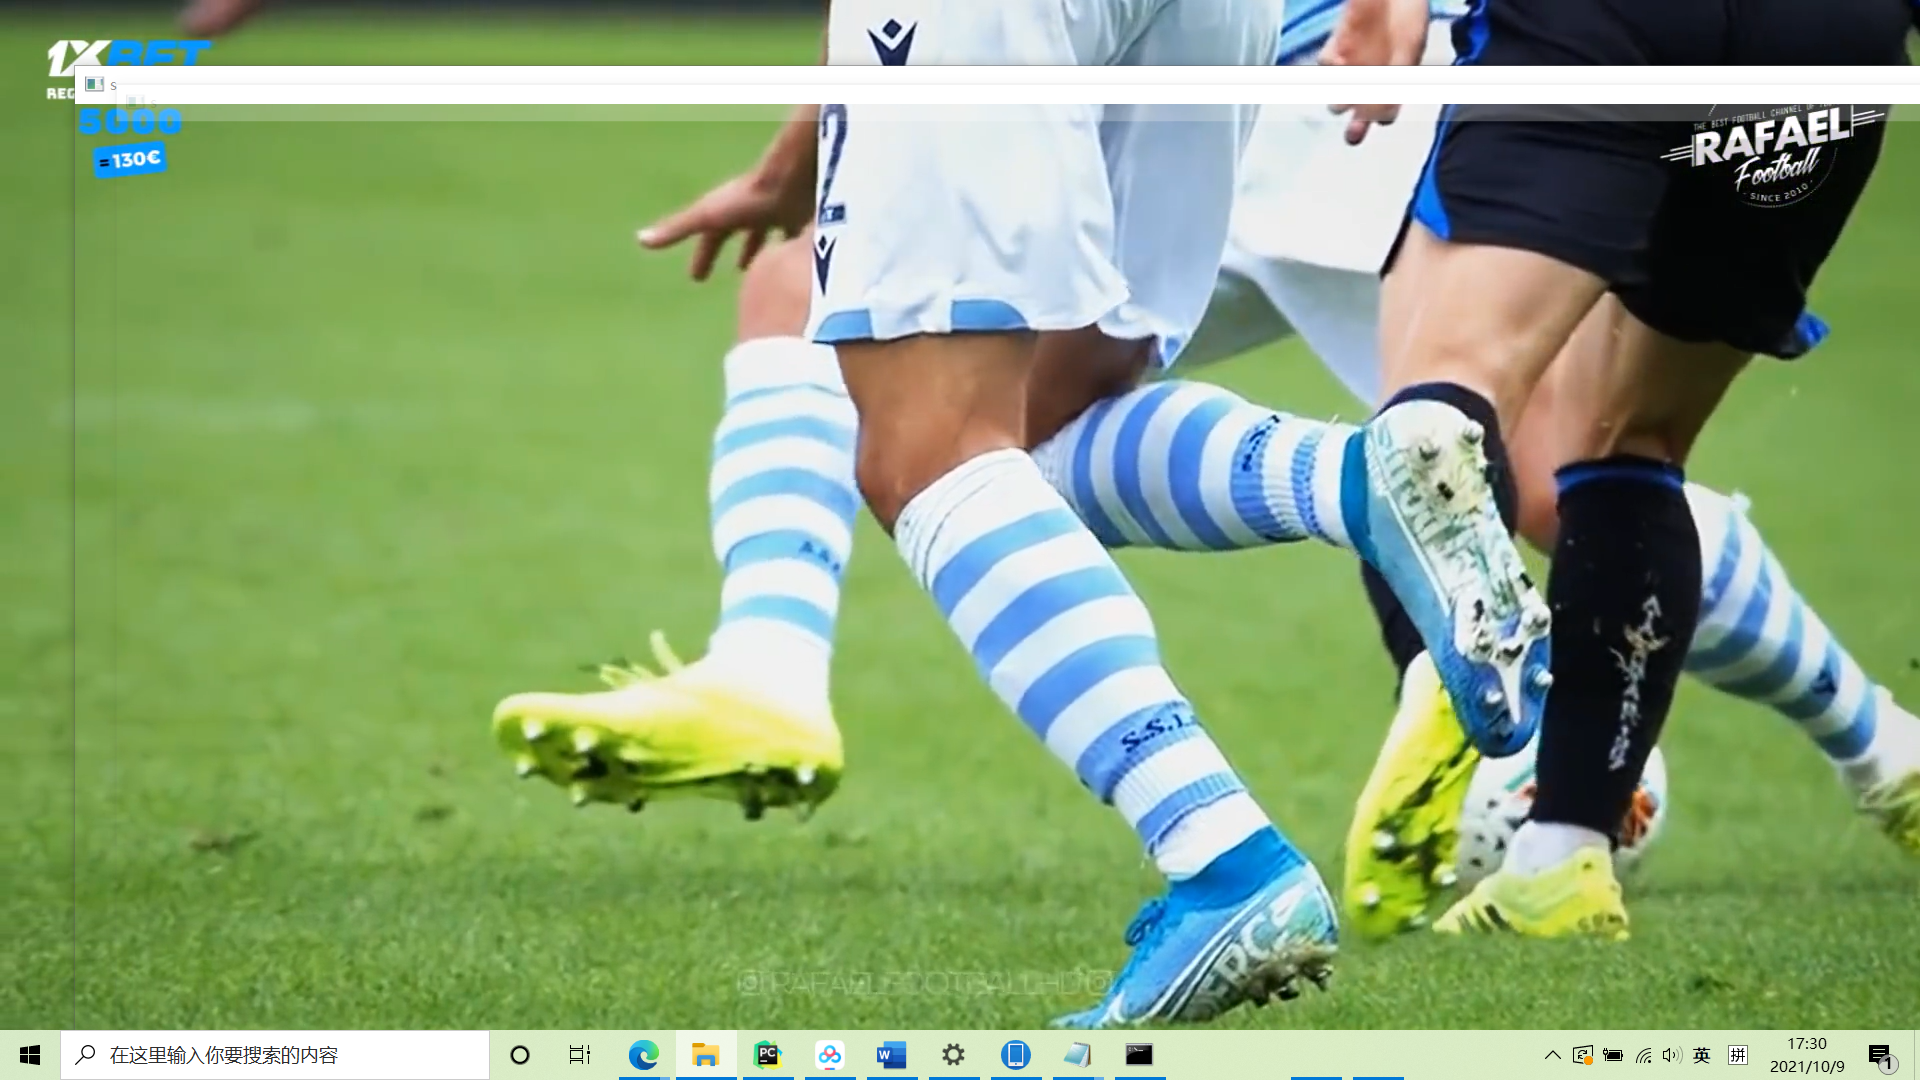ft: (1460, 702, 1673, 887)
